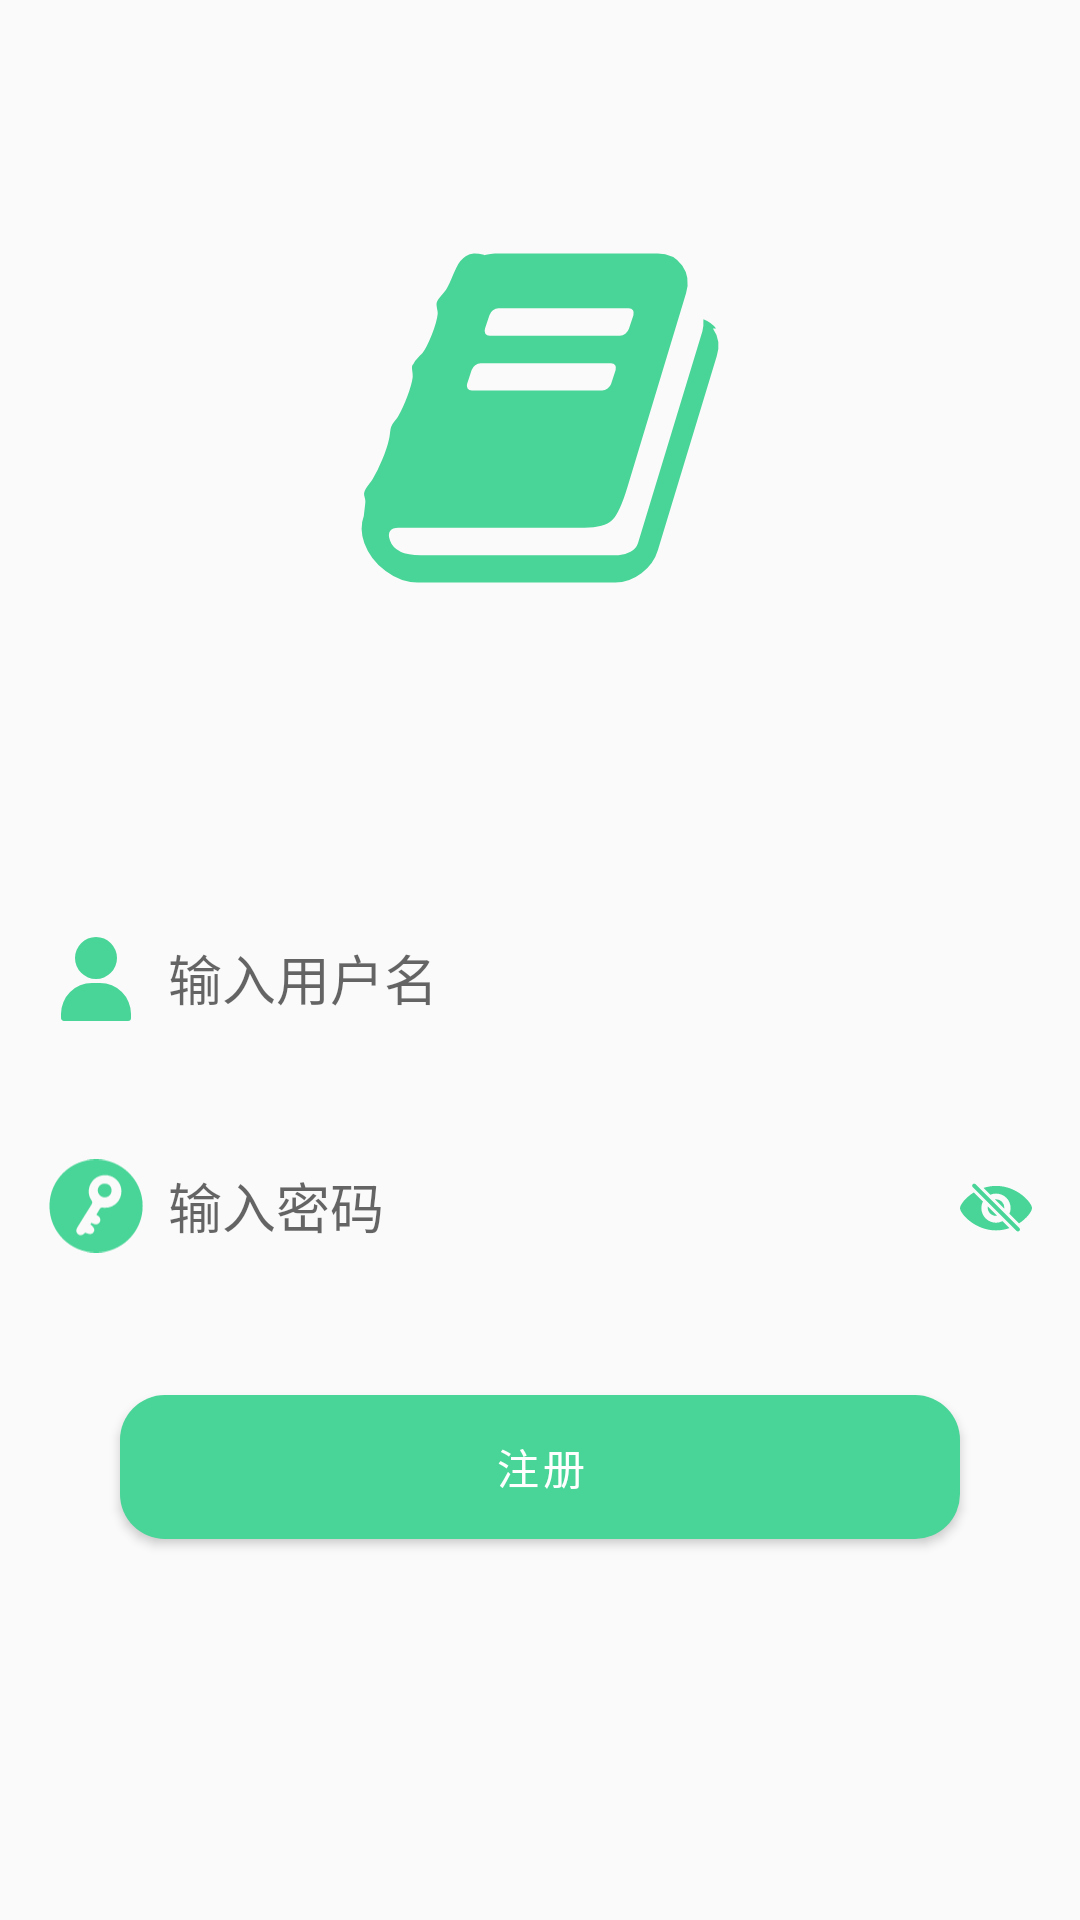

Named icons in this screenshot (1080 × 1920) and their bounding boxes, (x1, y1, x2, y2):
account on: (61, 937, 131, 1021)
book: (361, 253, 719, 583)
eye slash: (960, 1183, 1032, 1232)
